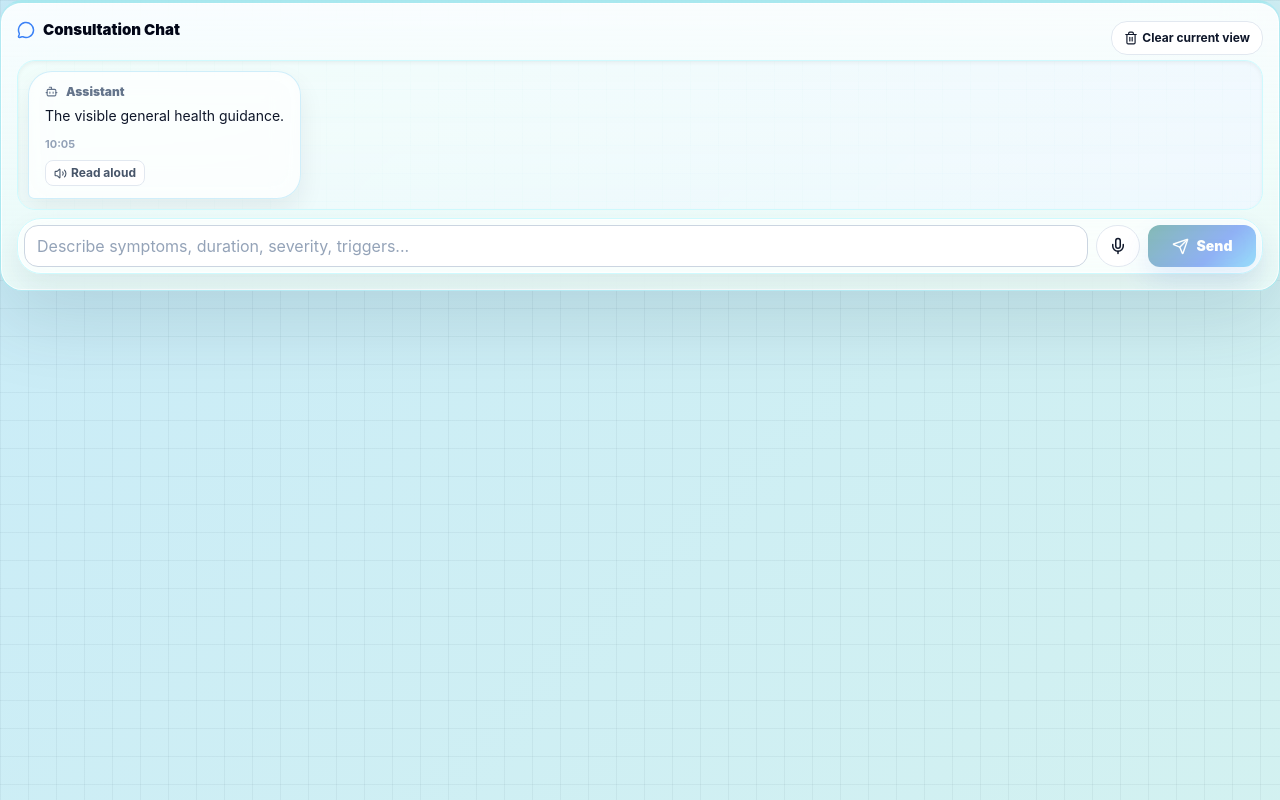
voice chat controls › keeps assistant text visible when synthesis fails
Step 1. Click the button with aria-label "Read response aloud" → (95,173), box 45,160 -> 145,186
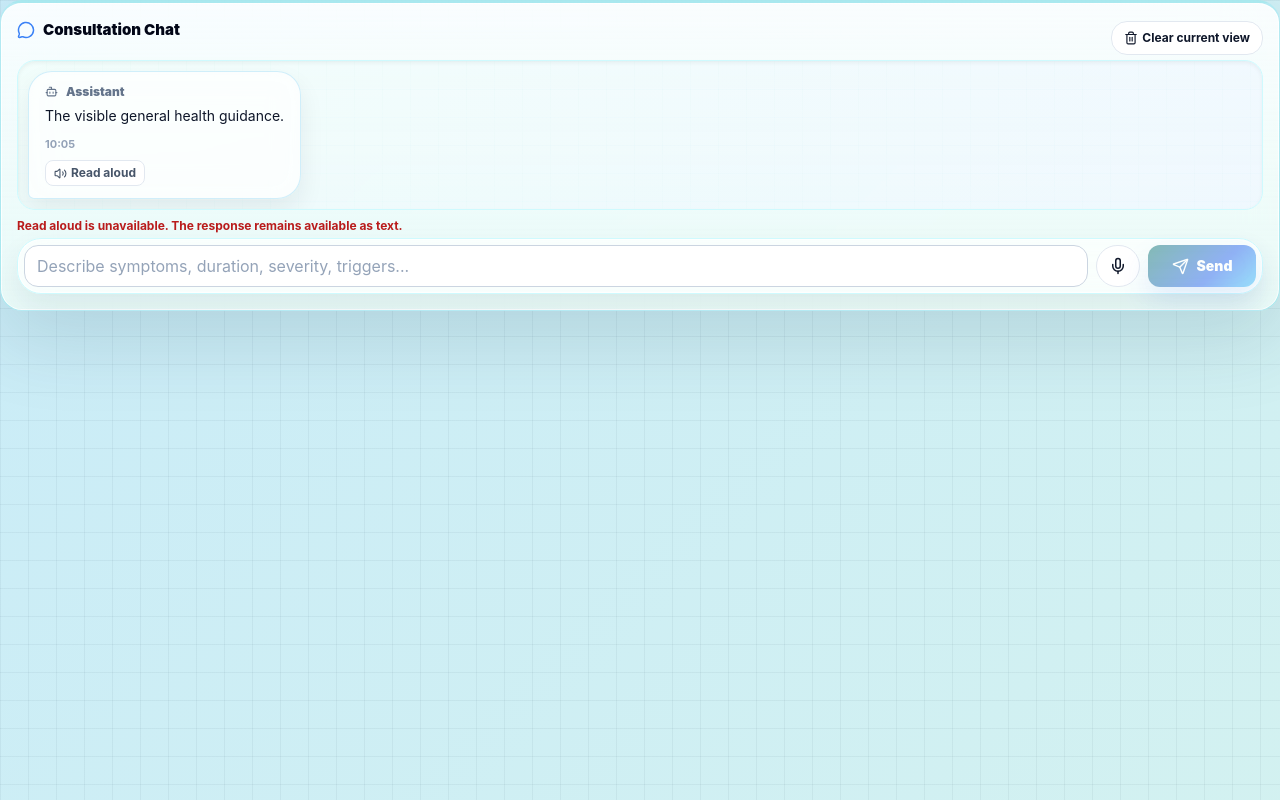
Check: the text "The visible general health guidance." is shown, box 45,104 -> 284,128
Check: the message shows "Read aloud is unavailable", box 17,218 -> 403,233
